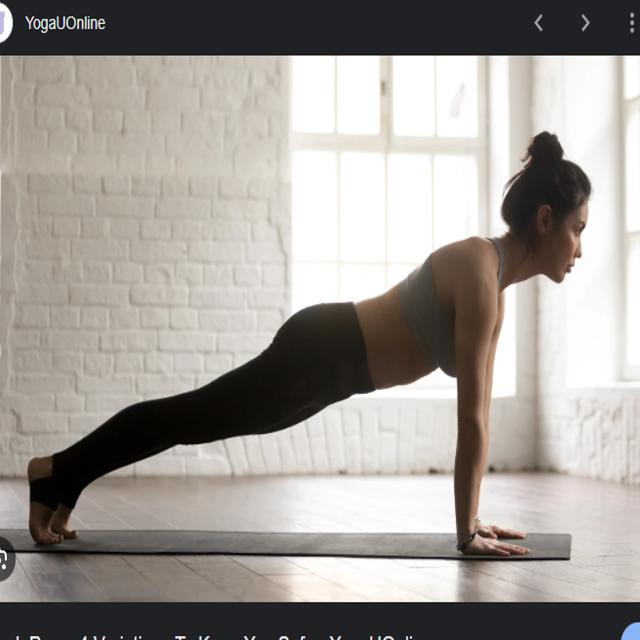Plank_Pose: (18, 125, 598, 566)
